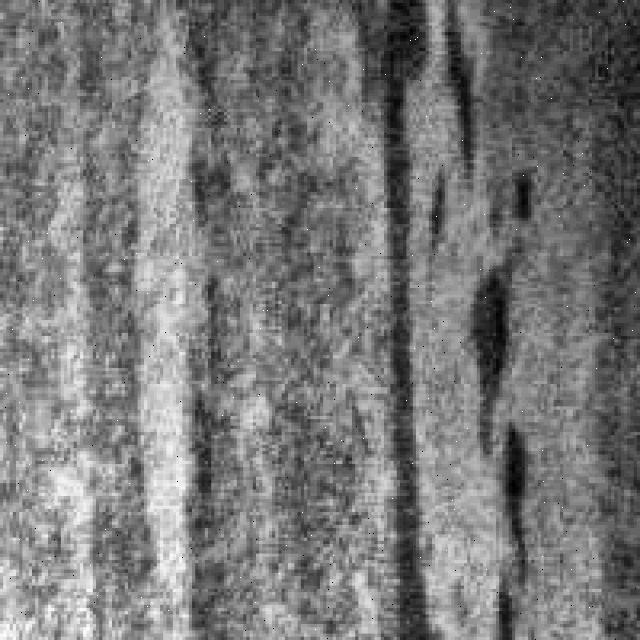Patches: (378, 0, 465, 630), (179, 32, 266, 634), (470, 170, 557, 582)
